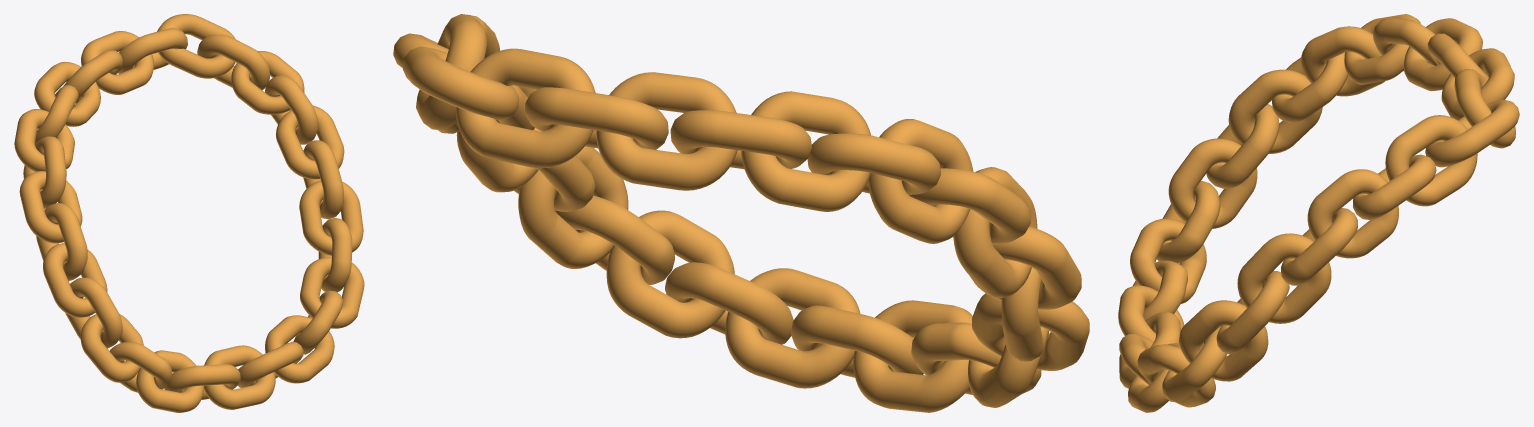
The model's file is Chain.fbx.
The picture shows the model from 3 angles, left to right: view 1: azimuth 30°, elevation 25°; view 2: azimuth 150°, elevation 25°; view 3: azimuth 270°, elevation 25°; orthographic projection. The views are drawn at different scales.
Parts seen in each view (by area): view 1: chaine; view 2: chaine; view 3: chaine.
Part boxes in pixels (x1,y1,x2,y2): chaine: (14,14,364,412); chaine: (393,14,1089,412); chaine: (1118,14,1519,412).
Bounding box in the file's own units: 32.03 × 25.23 × 27.74.
